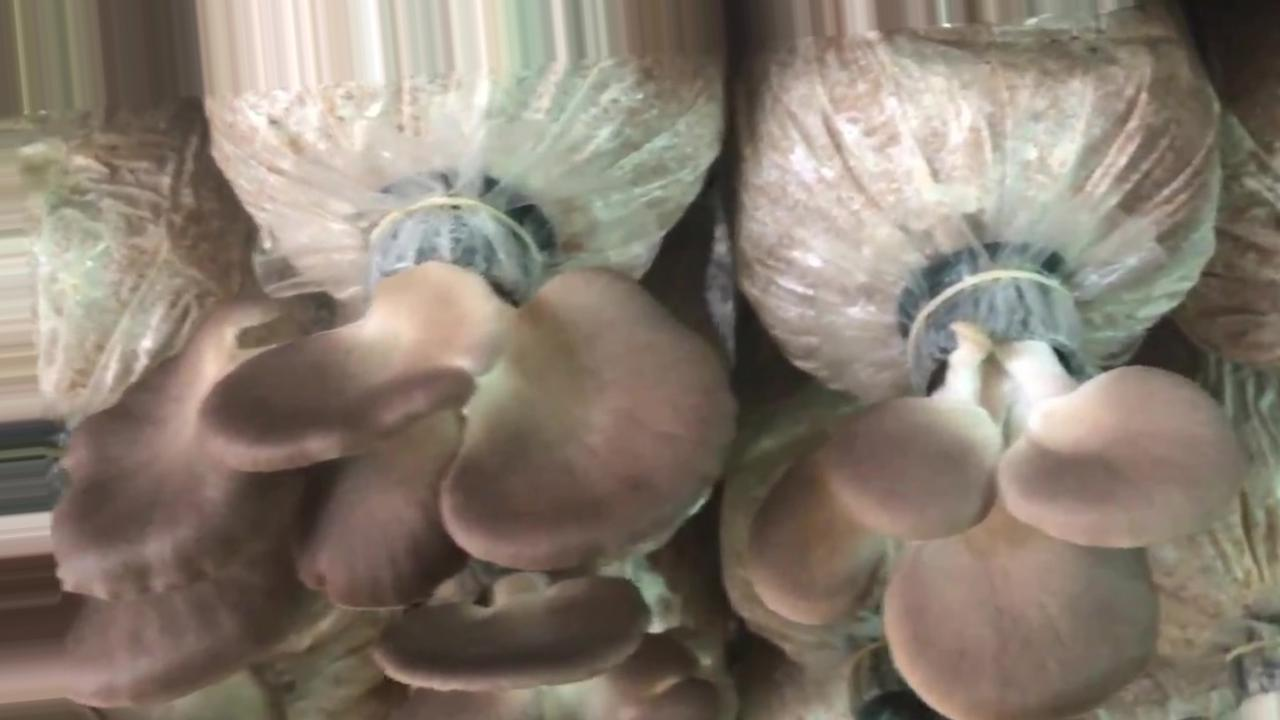nam: (198, 198, 734, 694), (749, 274, 1240, 720), (51, 302, 338, 712)
